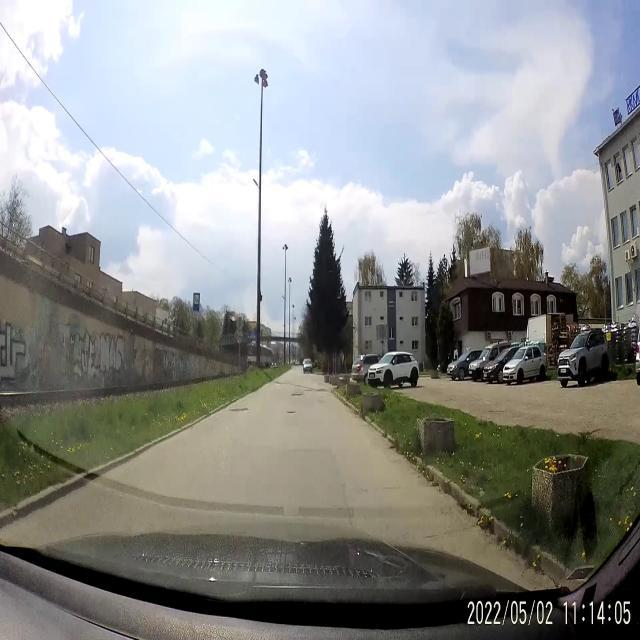Pothole: (226, 400, 250, 420), (283, 406, 298, 422), (290, 387, 304, 402)
